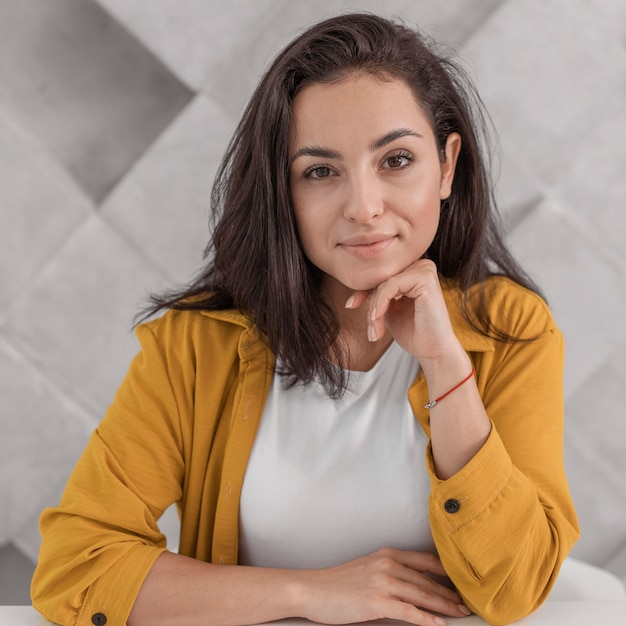young: (205, 9, 471, 360)
